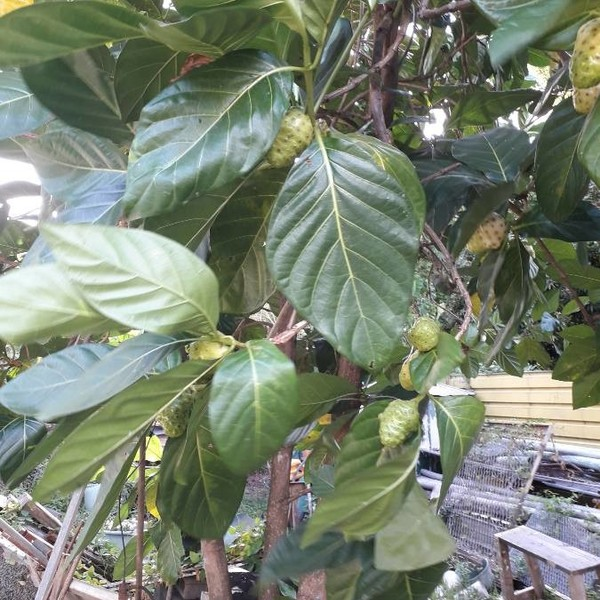obstacle: (29, 25, 452, 556)
